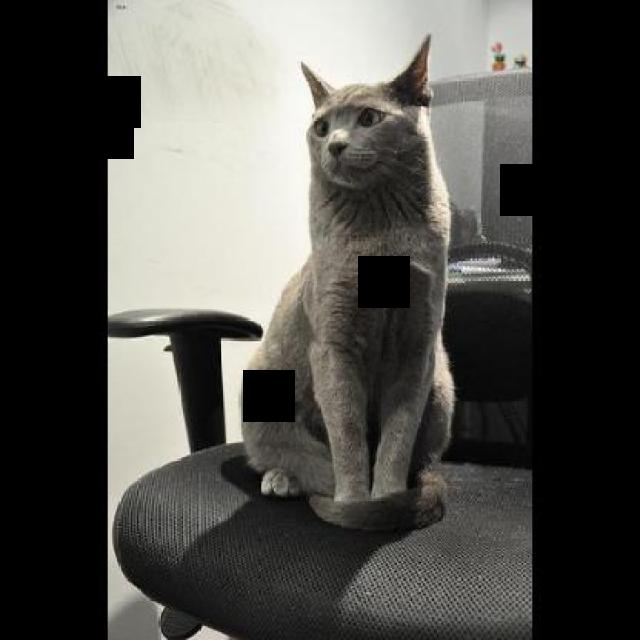unauthorized: (237, 32, 457, 532)
